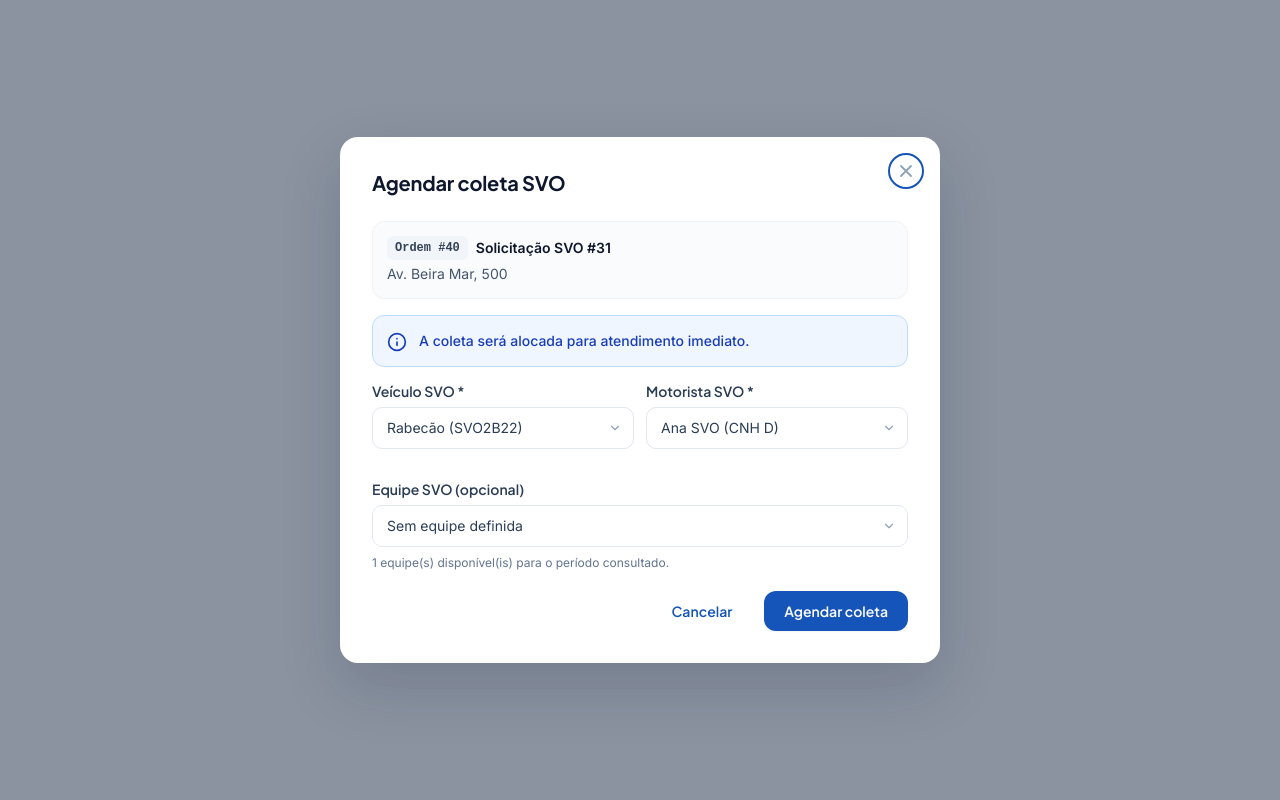
Test case: ModalAgendarColetaSvo (SCRUM-172) › impede agendamento com equipe sem integrante designado
Select "Equipe 12" in the dropdown labelled "Equipe SVO (opcional)" at (640, 526), box [372, 505, 908, 547]
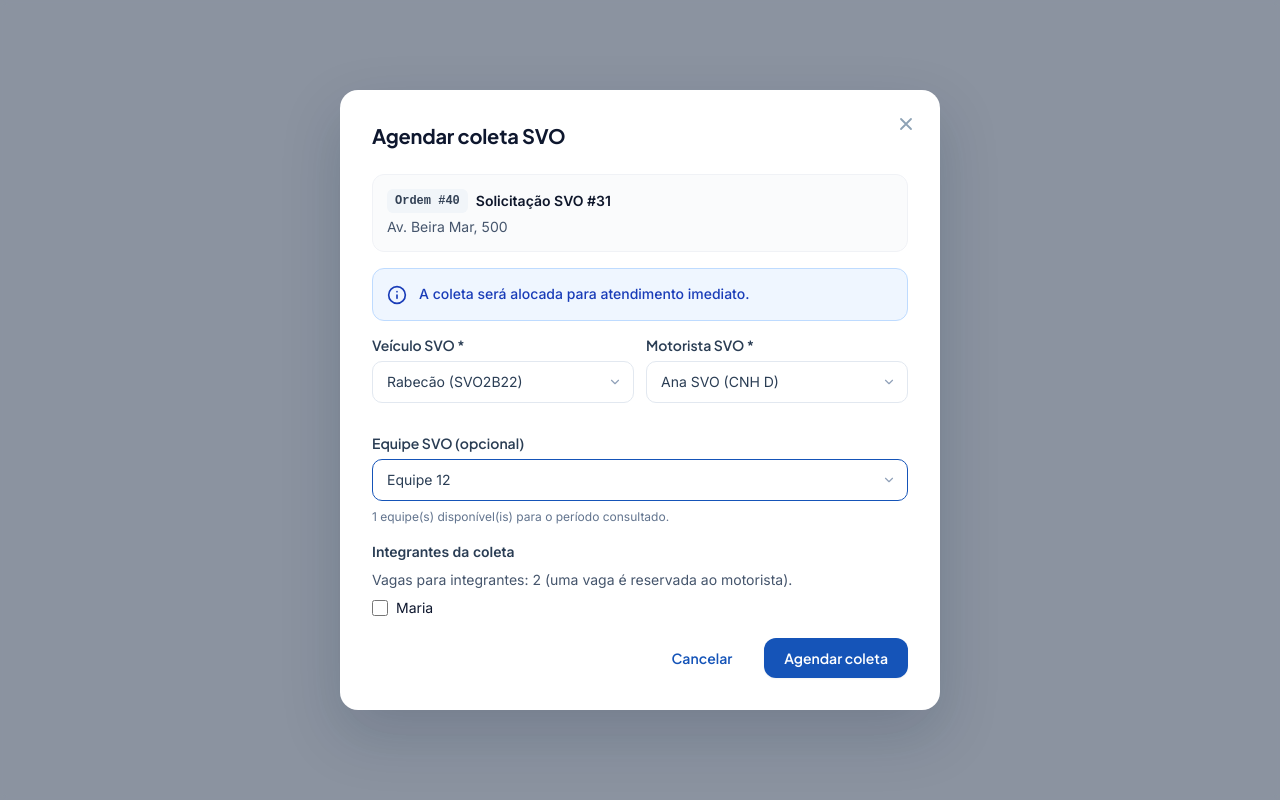
Expected: the checkbox labelled "Maria" is shown, [372, 600, 388, 616]
Click the button "Agendar coleta" at (836, 658), box [764, 638, 908, 678]
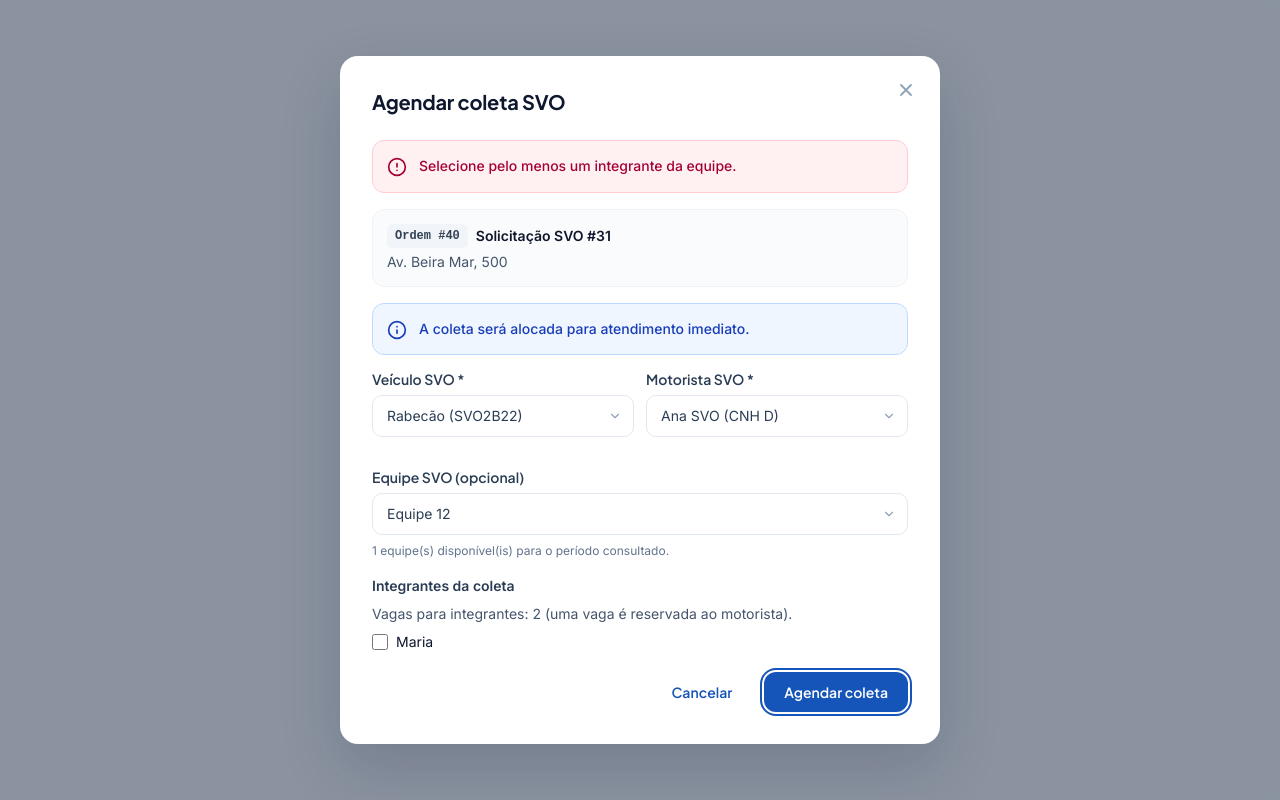
Expected: the text "Selecione pelo menos um integrante da equipe." is shown, [419, 157, 736, 174]
